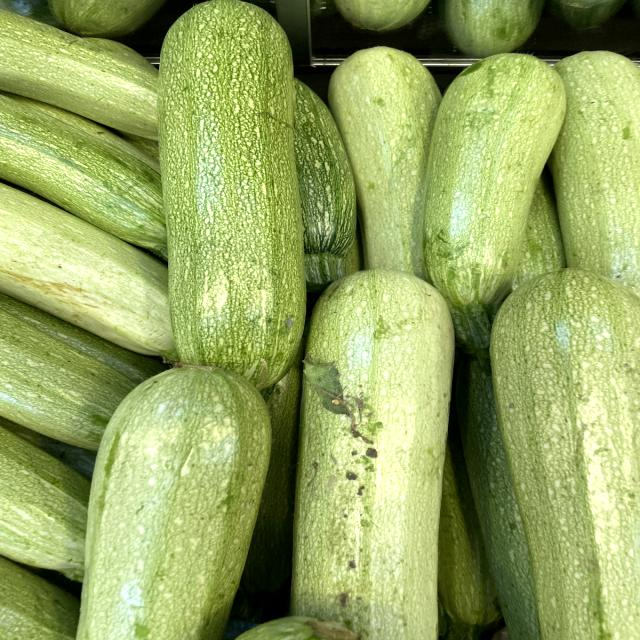zucchini: (276, 258, 479, 640), (156, 2, 307, 390), (411, 51, 589, 351)
